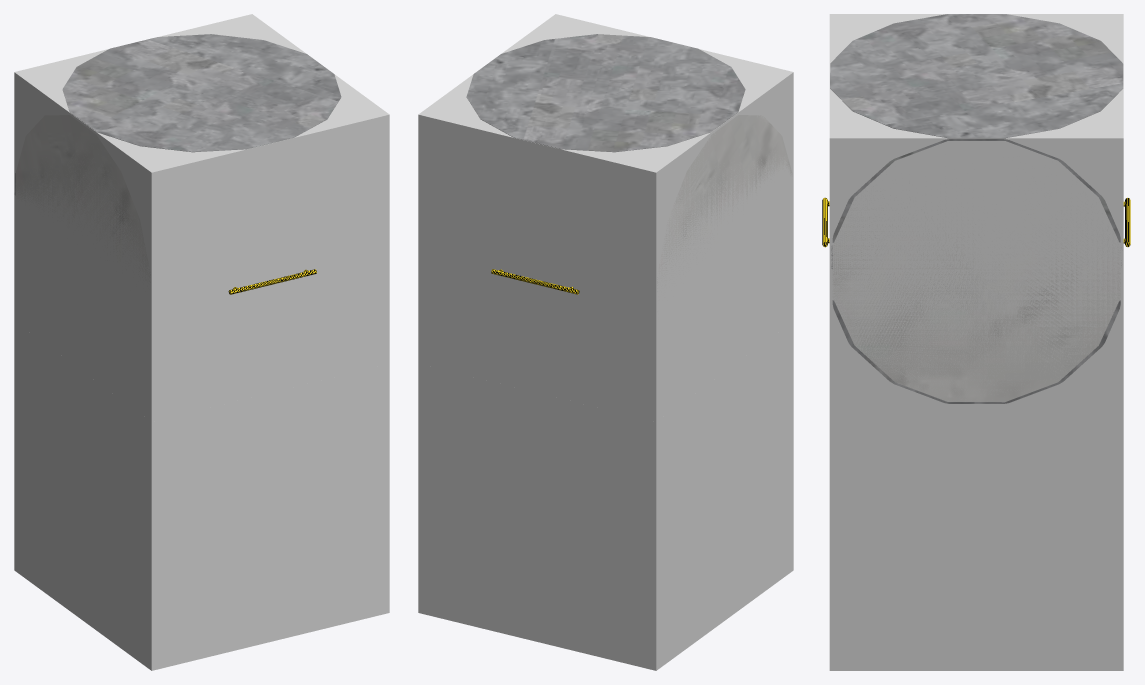
Rendered from Module-3-Centre-2.glb.
The picture shows the model from 3 angles, left to right: view 1: azimuth 30°, elevation 25°; view 2: azimuth 150°, elevation 25°; view 3: azimuth 270°, elevation 25°; orthographic projection. The views are drawn at different scales.
Parts seen in each view (by area): view 1: Cube, Cube.001, Hull.002, Hull; view 2: Cube, Cube.001, Hull.002, Hull; view 3: Cube.001, Cube, Hull, Hull.002, Cylinder.001.
Part boxes in pixels (bbox=[...]): Cube: bbox=[14, 14, 389, 421]; Cube.001: bbox=[14, 321, 389, 670]; Hull.002: bbox=[62, 34, 341, 152]; Hull: bbox=[15, 115, 150, 294]; Cube: bbox=[418, 14, 793, 421]; Cube.001: bbox=[418, 321, 793, 670]; Hull.002: bbox=[466, 34, 745, 152]; Hull: bbox=[657, 115, 792, 319]; Cube.001: bbox=[829, 404, 1123, 670]; Cube: bbox=[829, 14, 1123, 404]; Hull: bbox=[832, 161, 1120, 401]; Hull.002: bbox=[830, 14, 1123, 138]; Cylinder.001: bbox=[832, 139, 1120, 403].
Size of the model in its own units: 12 by 24.01 by 12.58.
Materials: 6 (5 with a texture image).
